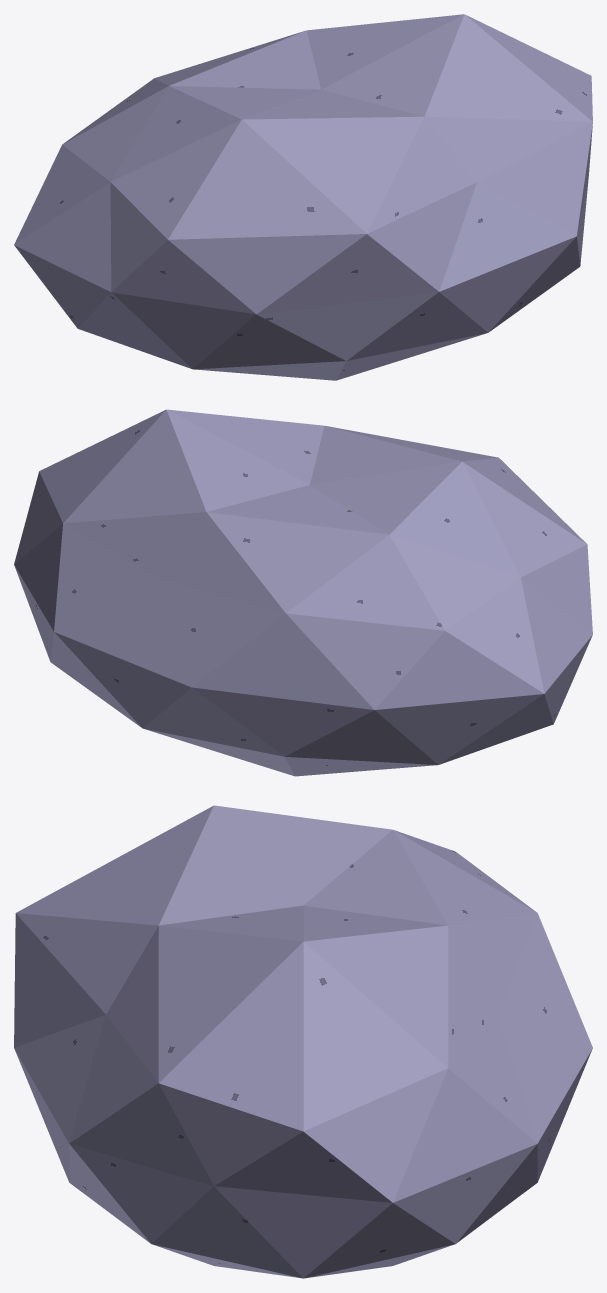
The model's file is Stein_2.fbx.
The picture shows the model from 3 angles, top to bottom: view 1: azimuth 30°, elevation 25°; view 2: azimuth 150°, elevation 25°; view 3: azimuth 270°, elevation 25°; orthographic projection. The views are drawn at different scales.
Visible parts, largest first — view 1: Icosphere; view 2: Icosphere; view 3: Icosphere.
Boxes of the visible parts, box(x1,y1,x2,y2) form: Icosphere: box(14, 14, 592, 380); Icosphere: box(14, 409, 592, 776); Icosphere: box(14, 805, 592, 1278).
Bounding box in the file's own units: 397 × 210 × 300.
